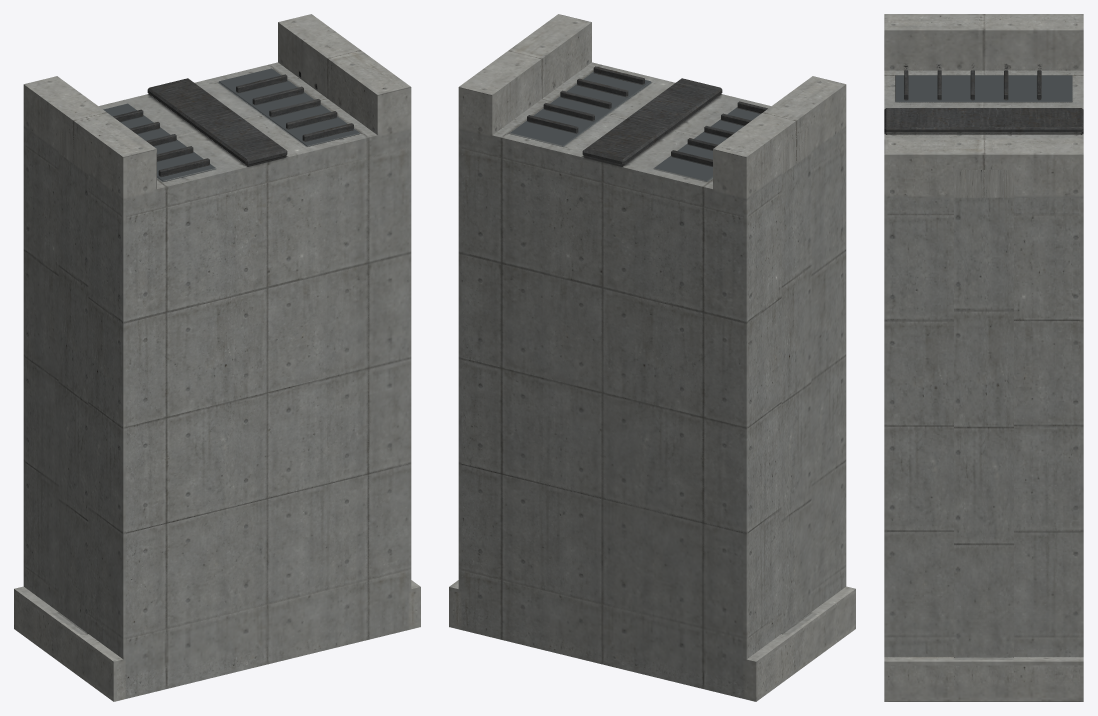
The model's file is half-bay.glb.
3 views of the same model, side by side, from view 1: azimuth 30°, elevation 25°; view 2: azimuth 150°, elevation 25°; view 3: azimuth 270°, elevation 25° (orthographic).
Parts seen in each view (by area): view 1: half-bay-geometry0.001, half-bay-geometry1.001; view 2: half-bay-geometry0.001, half-bay-geometry1.001; view 3: half-bay-geometry0.001, half-bay-geometry1.001.
Boxes of the visible parts, x1,y1,x2,y2 form: half-bay-geometry0.001: (16,16,417,697); half-bay-geometry1.001: (14,14,420,701); half-bay-geometry0.001: (452,16,847,696); half-bay-geometry1.001: (449,14,855,701); half-bay-geometry0.001: (884,15,1083,691); half-bay-geometry1.001: (884,14,1083,701).
Size of the model in its own units: 32 by 54 by 18.
Materials: 6 (6 with a texture image).
